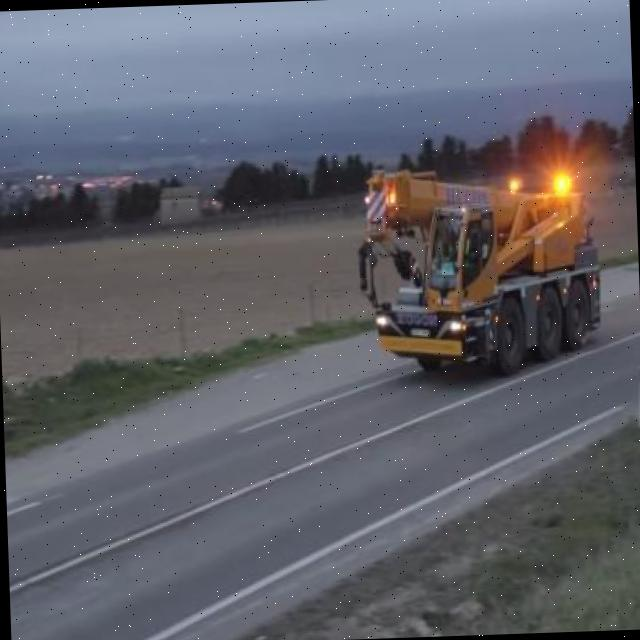Mobile Crane: (356, 152, 603, 382)
